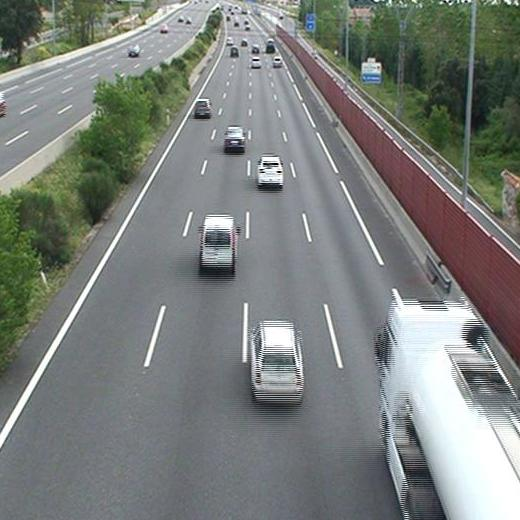car: (250, 322, 304, 399), (257, 156, 282, 185), (224, 127, 245, 148), (194, 100, 211, 115), (272, 57, 282, 68), (251, 58, 261, 68), (229, 47, 239, 56)
tank-truck: (378, 303, 520, 519)
van: (200, 216, 235, 269)
